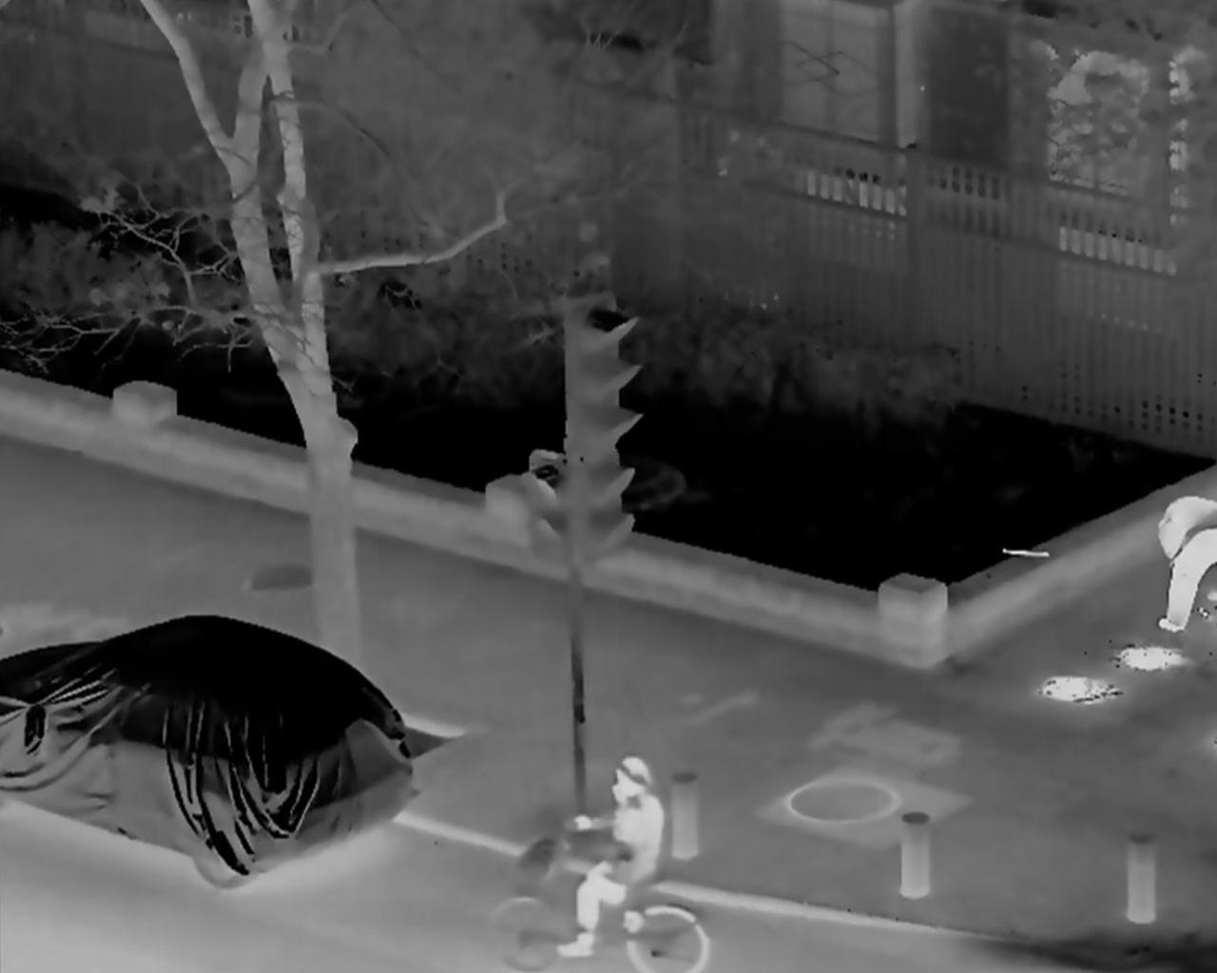person: (556, 758, 668, 953), (1150, 499, 1217, 620)
